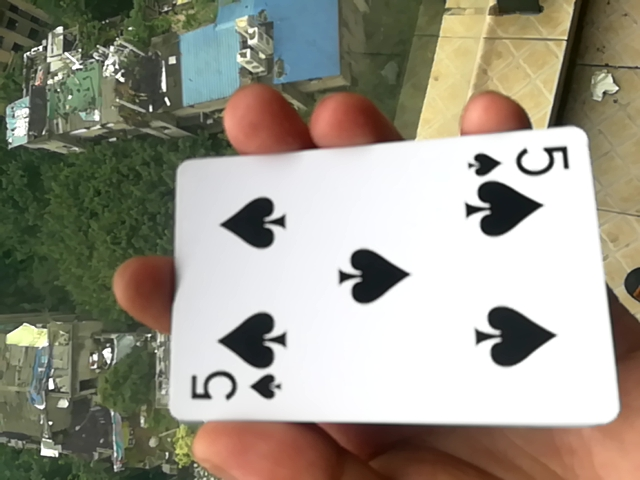ht 5: (140, 131, 625, 440)
